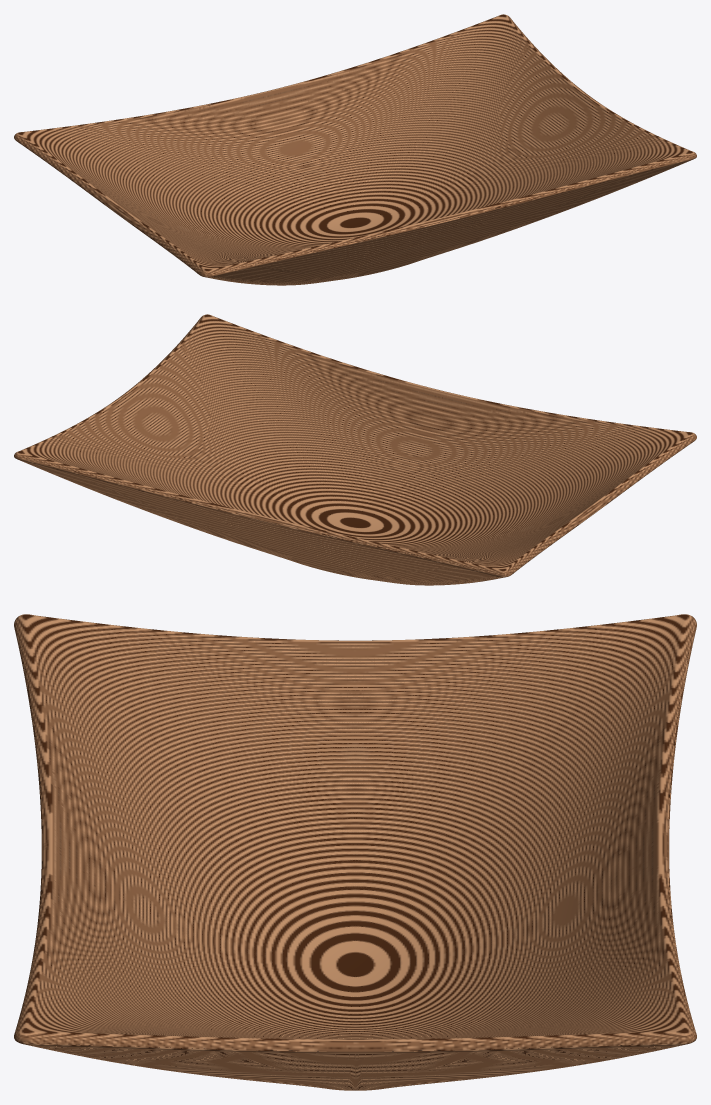
The model's file is Заготовка6 120 20.glb.
The picture shows the model from 3 angles, top to bottom: view 1: azimuth 30°, elevation 25°; view 2: azimuth 150°, elevation 25°; view 3: azimuth 270°, elevation 25°; orthographic projection. The views are drawn at different scales.
Visible parts, largest first — view 1: Solid_115; view 2: Solid_115; view 3: Solid_115.
Boxes of the visible parts, <box> form: Solid_115: <box>14,14,696,285</box>; Solid_115: <box>14,314,696,585</box>; Solid_115: <box>14,614,696,1090</box>.
Size of the model in its own units: 558 by 116 by 378.
Materials: 1 (1 with a texture image).
